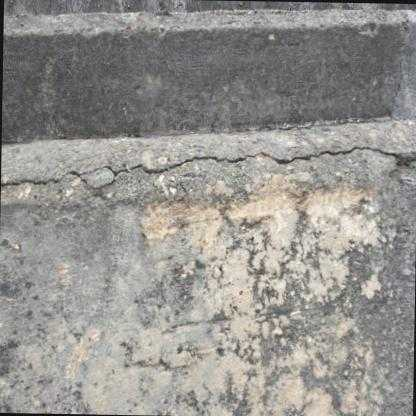crack: (0, 142, 398, 190)
